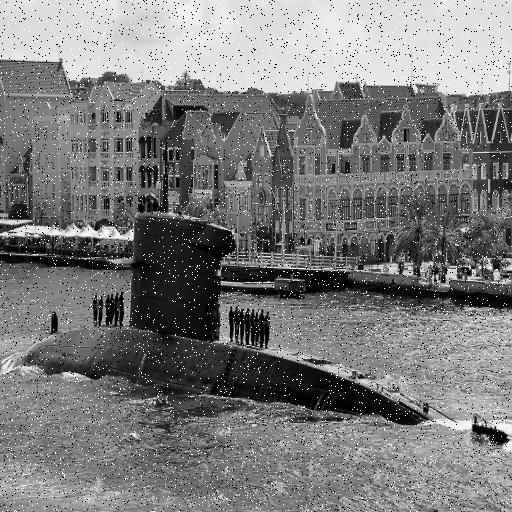submarine: (1, 214, 511, 442)
